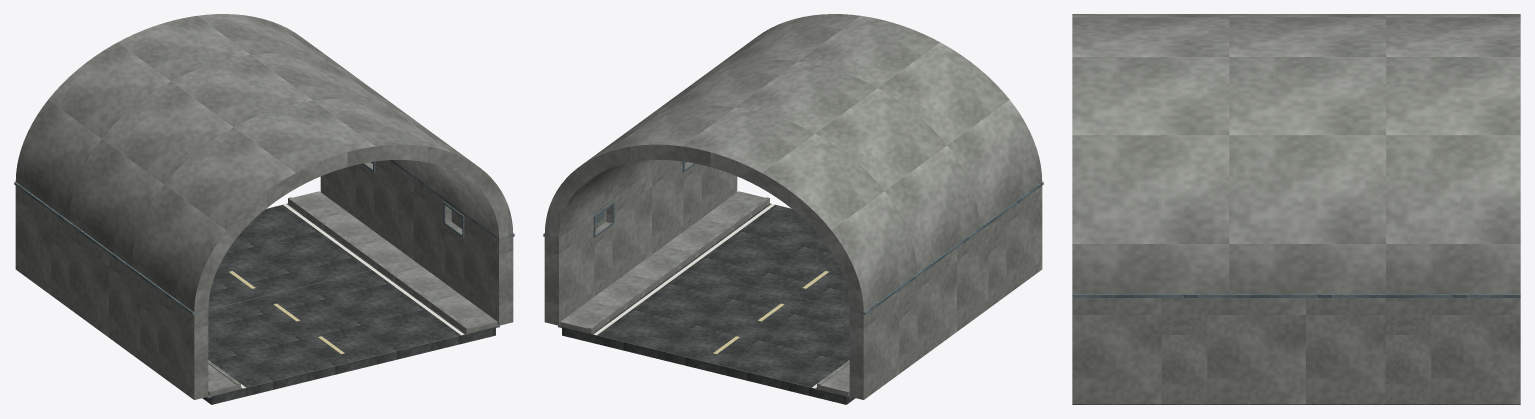
The model's file is PZ_Tunnel_Lining_Dry_10M.glb.
3 views of the same model, side by side, from view 1: azimuth 30°, elevation 25°; view 2: azimuth 150°, elevation 25°; view 3: azimuth 270°, elevation 25° (orthographic). The views are drawn at different scales.
Visible parts, largest first — view 1: LINING_A_DRY_10M_CrownArch_10M, LINING_A_DRY_10M, LINING_A_DRY_10M_RoadSlab_10M, LINING_A_DRY_10M_RaisedWalk_RIGHT, LINING_A_DRY_10M_CurbStrip_RIGHT, LINING_A_DRY_10M_CableTrunk_LEFT, LINING_A_DRY_10M_EdgeMark_R, LINING_A_DRY_10M_RaisedWalk_LEFT; view 2: LINING_A_DRY_10M_CrownArch_10M, LINING_A_DRY_10M, LINING_A_DRY_10M_RoadSlab_10M, LINING_A_DRY_10M_RaisedWalk_RIGHT, LINING_A_DRY_10M_CurbStrip_RIGHT, LINING_A_DRY_10M_CableTrunk_LEFT, LINING_A_DRY_10M_EdgeMark_R, LINING_A_DRY_10M_RaisedWalk_LEFT; view 3: LINING_A_DRY_10M_CrownArch_10M, LINING_A_DRY_10M, LINING_A_DRY_10M_CableTrunk_RIGHT, LINING_A_DRY_10M_RoadSlab_10M.
Boxes of the visible parts, <box> form: LINING_A_DRY_10M_CrownArch_10M: <box>15,14,513,312</box>; LINING_A_DRY_10M: <box>15,160,513,399</box>; LINING_A_DRY_10M_RoadSlab_10M: <box>202,204,495,404</box>; LINING_A_DRY_10M_RaisedWalk_RIGHT: <box>292,191,497,332</box>; LINING_A_DRY_10M_CurbStrip_RIGHT: <box>288,197,469,334</box>; LINING_A_DRY_10M_CableTrunk_LEFT: <box>14,182,204,314</box>; LINING_A_DRY_10M_EdgeMark_R: <box>283,204,464,335</box>; LINING_A_DRY_10M_RaisedWalk_LEFT: <box>208,364,237,396</box>; LINING_A_DRY_10M_CrownArch_10M: <box>544,14,1042,312</box>; LINING_A_DRY_10M: <box>544,160,1042,399</box>; LINING_A_DRY_10M_RoadSlab_10M: <box>562,204,855,404</box>; LINING_A_DRY_10M_RaisedWalk_RIGHT: <box>560,191,765,332</box>; LINING_A_DRY_10M_CurbStrip_RIGHT: <box>588,197,769,334</box>; LINING_A_DRY_10M_CableTrunk_LEFT: <box>850,182,1043,314</box>; LINING_A_DRY_10M_EdgeMark_R: <box>593,204,774,335</box>; LINING_A_DRY_10M_RaisedWalk_LEFT: <box>820,364,849,396</box>; LINING_A_DRY_10M_CrownArch_10M: <box>1072,14,1520,294</box>; LINING_A_DRY_10M: <box>1072,298,1520,404</box>; LINING_A_DRY_10M_CableTrunk_RIGHT: <box>1072,294,1520,297</box>; LINING_A_DRY_10M_RoadSlab_10M: <box>1072,404,1520,404</box>.
Size of the model in its own units: 10.42 by 6.79 by 10.
Materials: 7 (4 with a texture image).
